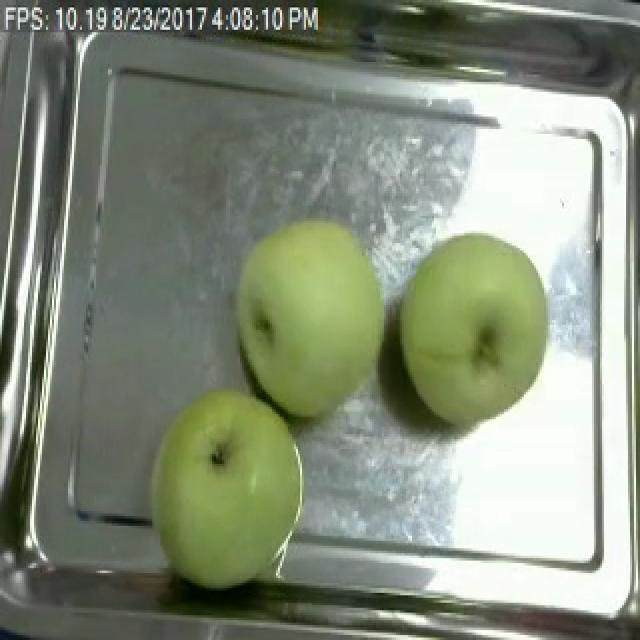50-_ripeness: (400, 231, 570, 434), (236, 224, 387, 422), (157, 402, 306, 594)
